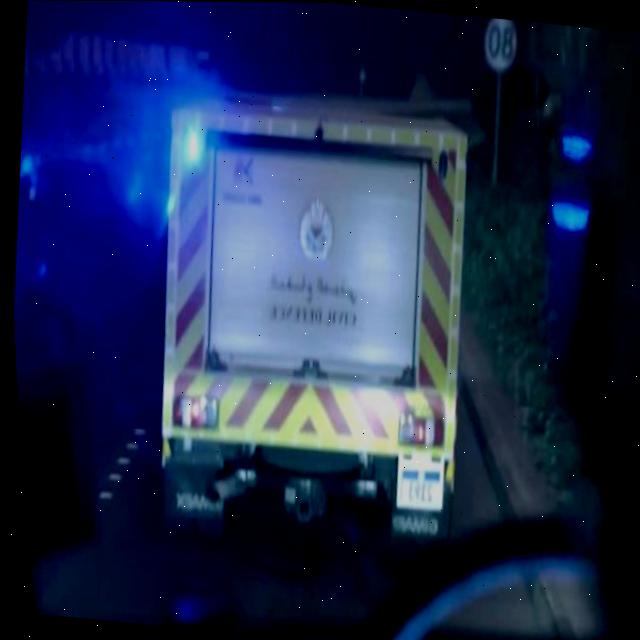emergency: (127, 42, 504, 590)
